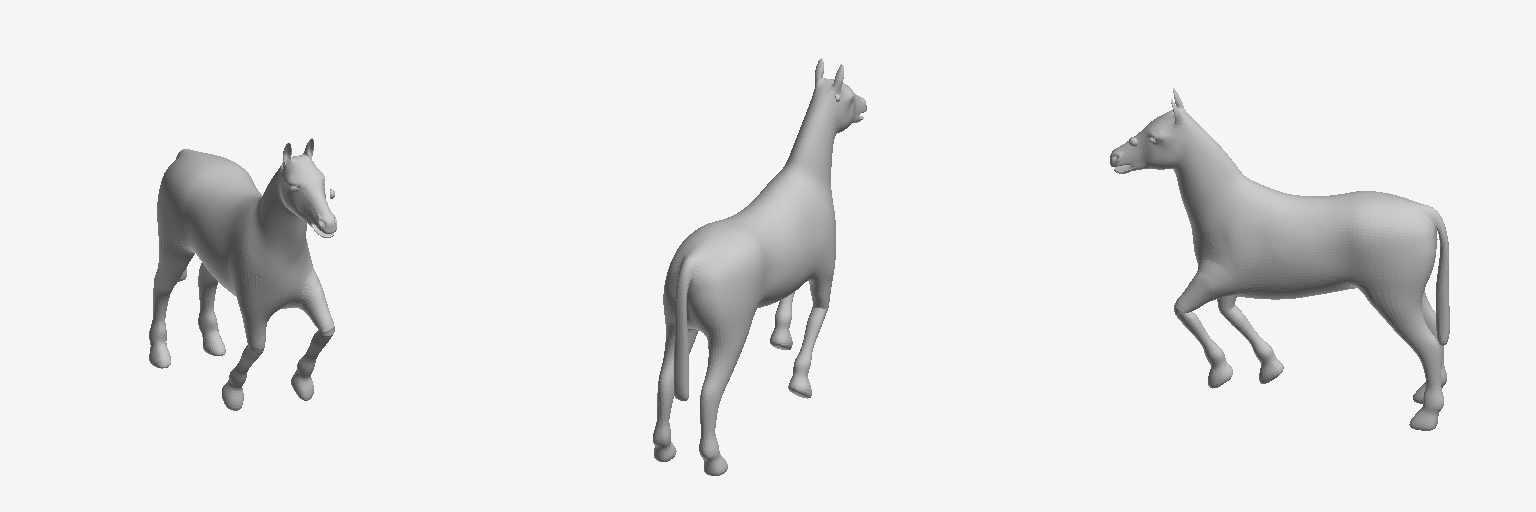
The model's file is horseobj.obj.
3 renders of one model, left to right at view 1: azimuth 30°, elevation 25°; view 2: azimuth 150°, elevation 25°; view 3: azimuth 270°, elevation 25°, orthographic.
Parts seen in each view (by area): view 1: 10026_Horse_v01-it2; view 2: 10026_Horse_v01-it2; view 3: 10026_Horse_v01-it2.
Part boxes in pixels (x1,y1,x2,y2): 10026_Horse_v01-it2: (149, 138, 336, 410); 10026_Horse_v01-it2: (653, 58, 866, 475); 10026_Horse_v01-it2: (1110, 88, 1449, 430).
Size of the model in its own units: 0.2782 by 1.04 by 1.02.